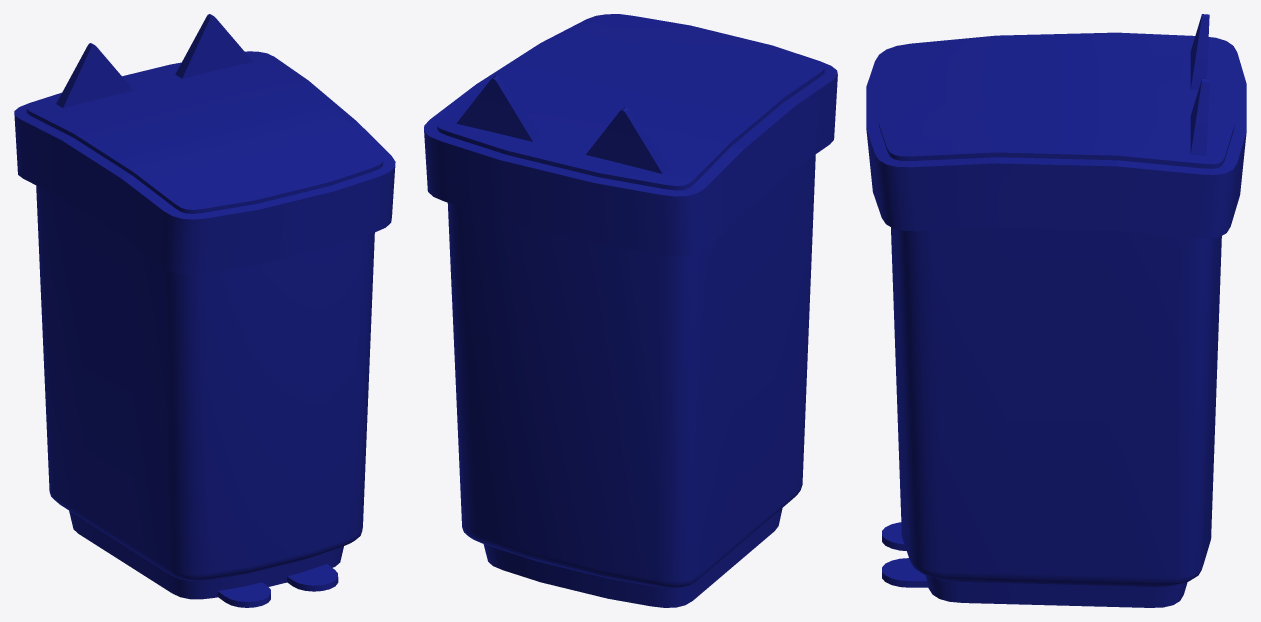
The model's file is SM_Trash.fbx.
3 views of the same model, side by side, from view 1: azimuth 30°, elevation 25°; view 2: azimuth 150°, elevation 25°; view 3: azimuth 270°, elevation 25° (orthographic). The views are drawn at different scales.
Parts seen in each view (by area): view 1: SM_Trash_01, SM_Trash_02; view 2: SM_Trash_01, SM_Trash_02; view 3: SM_Trash_01, SM_Trash_02.
Part boxes in pixels (x1=…): SM_Trash_01: x1=14, y1=51, x2=395, y2=607; SM_Trash_02: x1=26, y1=14, x2=383, y2=213; SM_Trash_01: x1=424, y1=14, x2=837, y2=607; SM_Trash_02: x1=437, y1=14, x2=824, y2=190; SM_Trash_01: x1=866, y1=32, x2=1246, y2=607; SM_Trash_02: x1=878, y1=14, x2=1234, y2=168.
Size of the model in its own units: 92.09 by 160 by 107.
